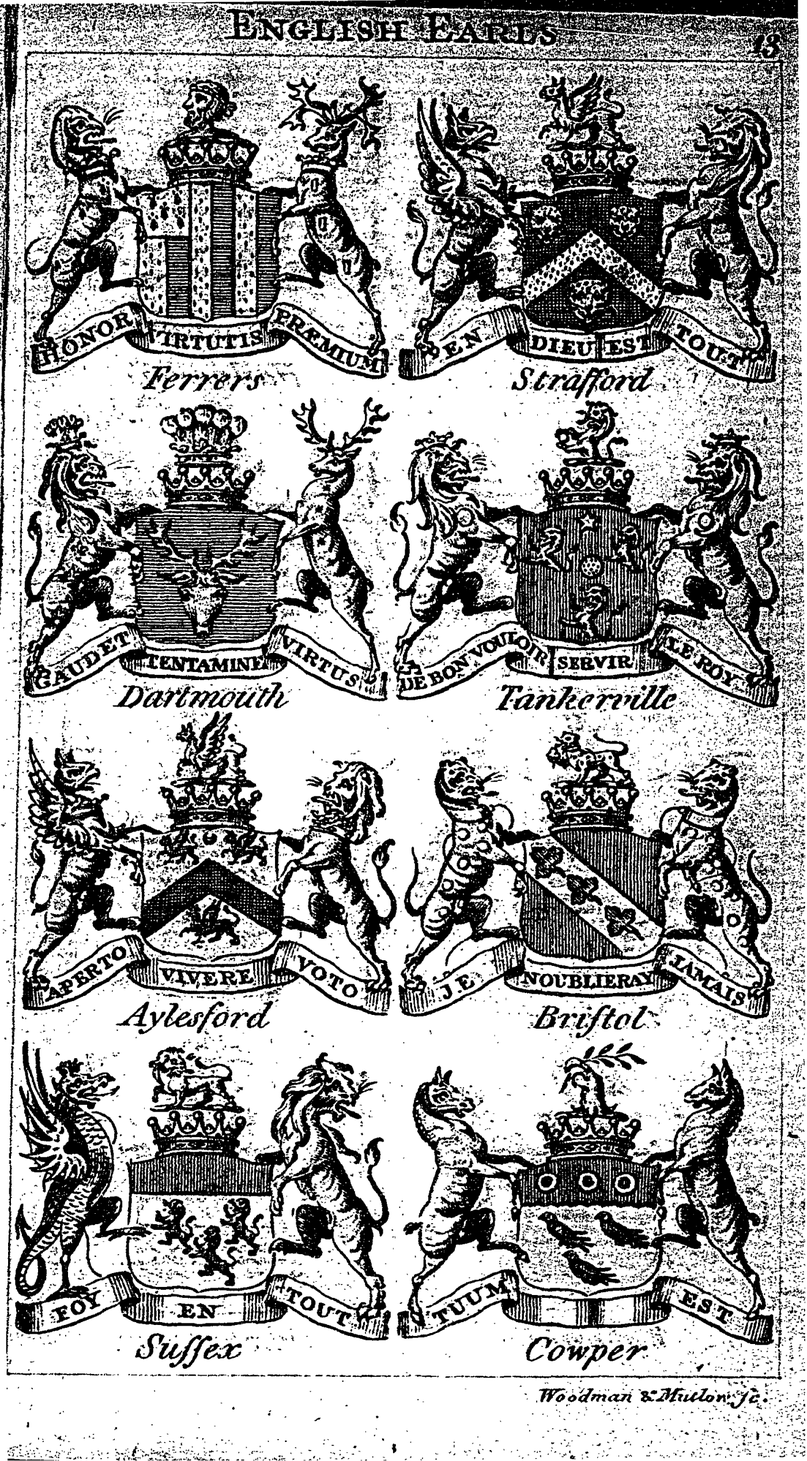coat_of_arms: (401, 63, 785, 402), (27, 1029, 405, 1365), (28, 54, 398, 394), (395, 396, 783, 720), (405, 1039, 774, 1379), (389, 731, 780, 1037), (24, 396, 389, 722), (30, 731, 389, 1039)
